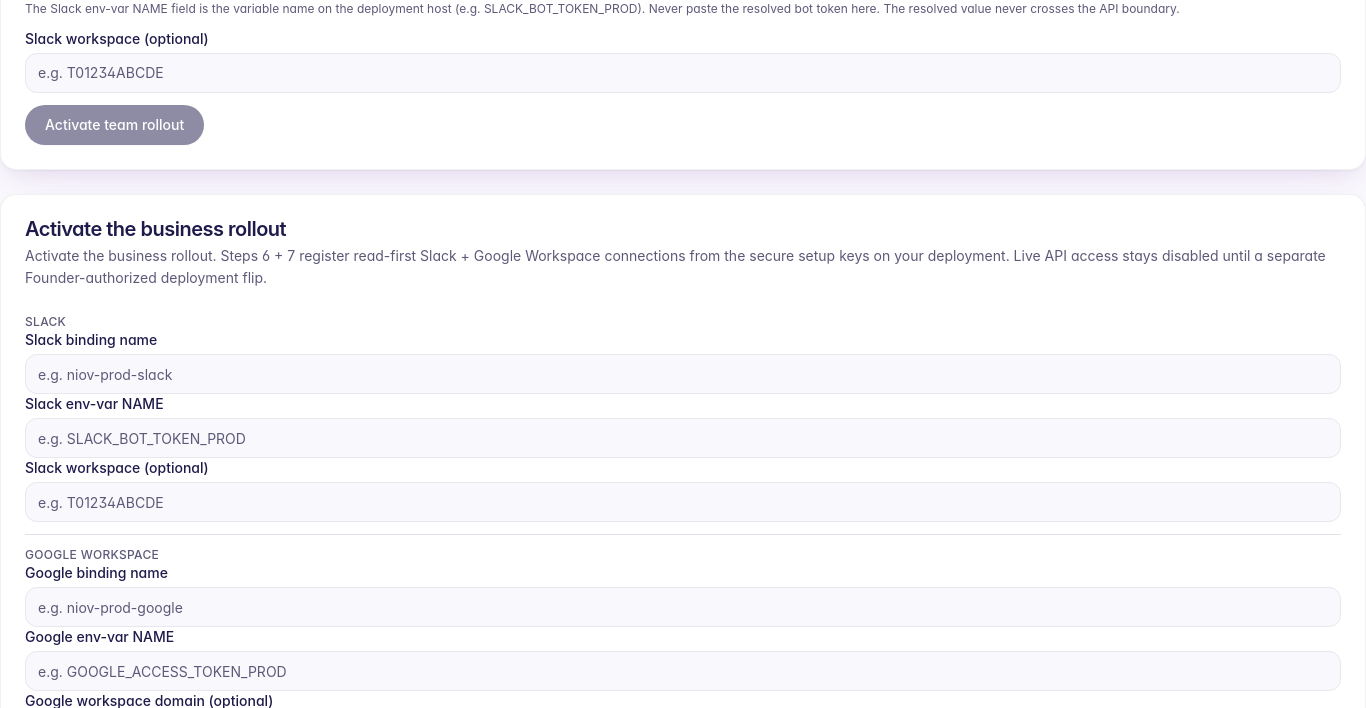
Test: D6 business — successful activation › renders the delegated authority label at step 5
(page scrolled)
Type "niov-prod-slack" into the field with test id "business-slack-display-name-input".
click(683, 374); type("niov-prod-slack")  # box [25,354,1341,394]
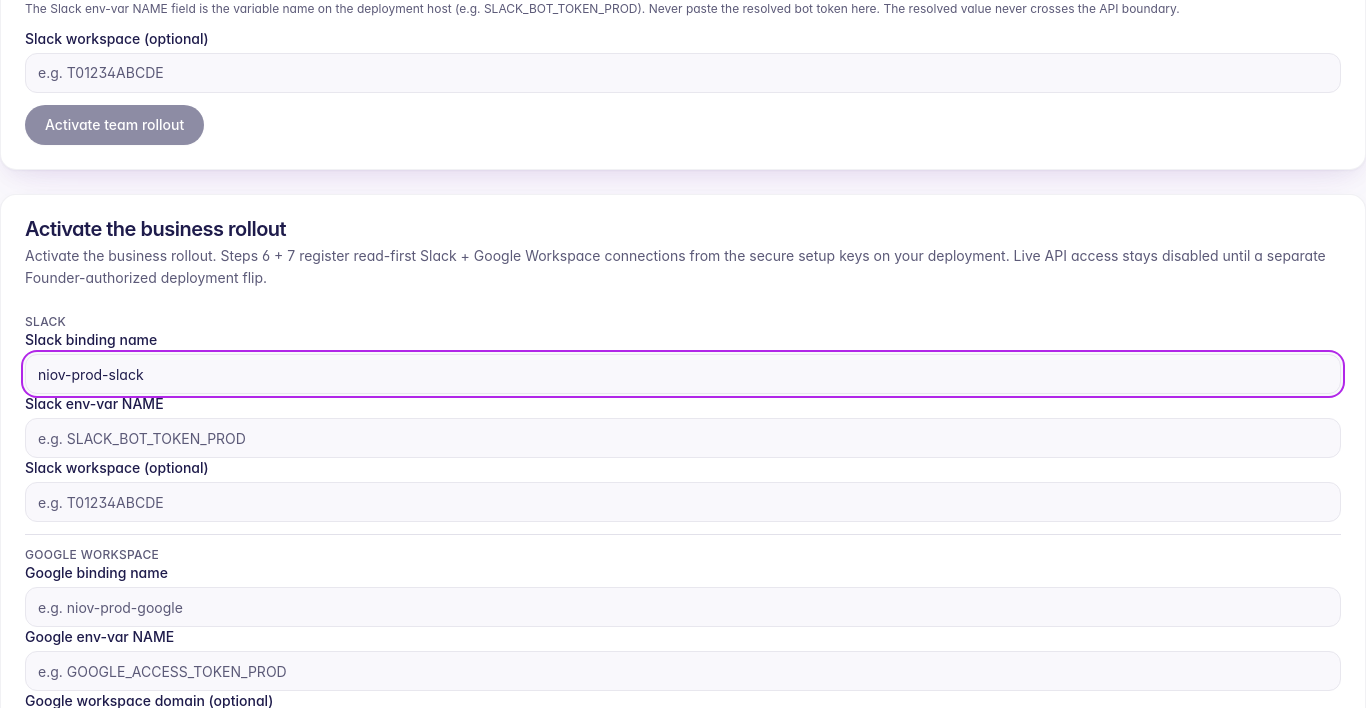
Type "SLACK_BOT_TOKEN_PROD" into the field with test id "business-slack-secret-ref-input".
click(683, 438); type("SLACK_BOT_TOKEN_PROD")  # box [25,418,1341,458]
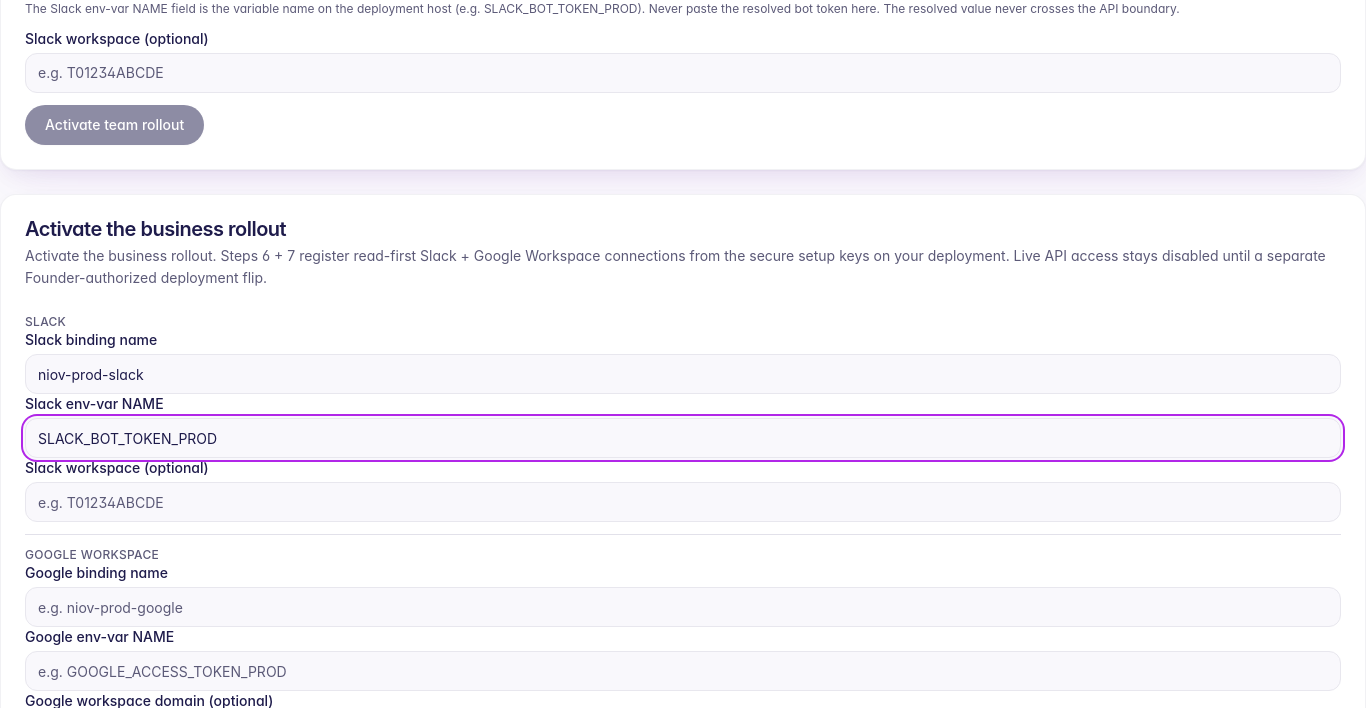
Type "niov-prod-google" into the field with test id "business-google-display-name-input".
click(683, 607); type("niov-prod-google")  # box [25,587,1341,627]
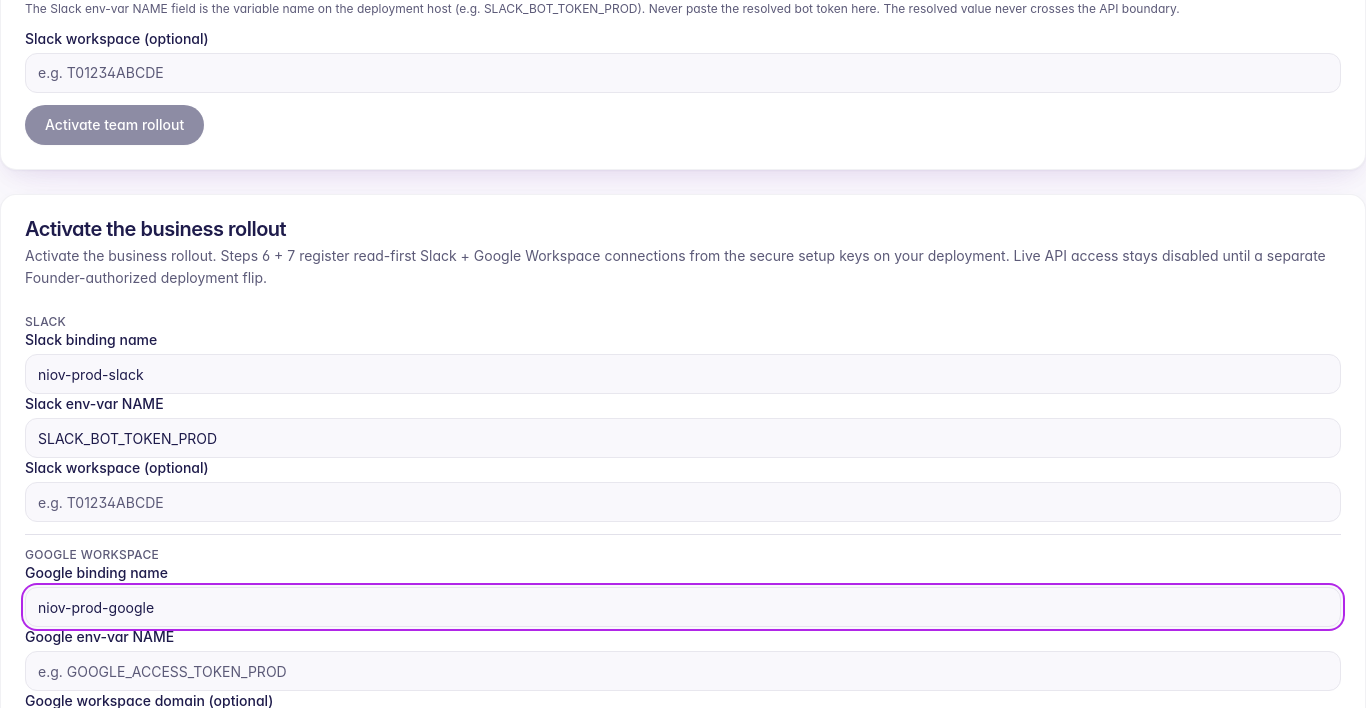
Type "GOOGLE_ACCESS_TOKEN_PROD" into the field with test id "business-google-secret-ref-input".
click(683, 671); type("GOOGLE_ACCESS_TOKEN_PROD")  # box [25,651,1341,691]
(page scrolled)
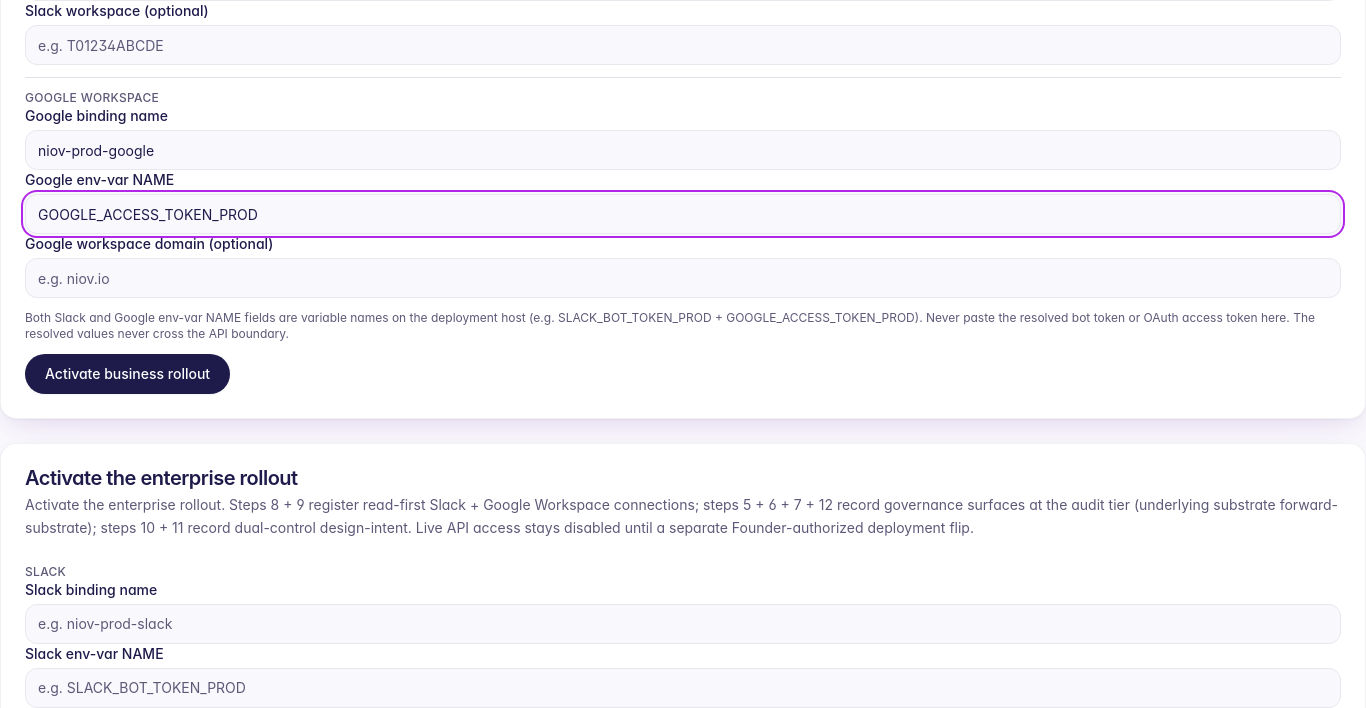
Click the button with test id "activate-business-button".
click(128, 374)  # box [25,354,230,394]
(page scrolled)
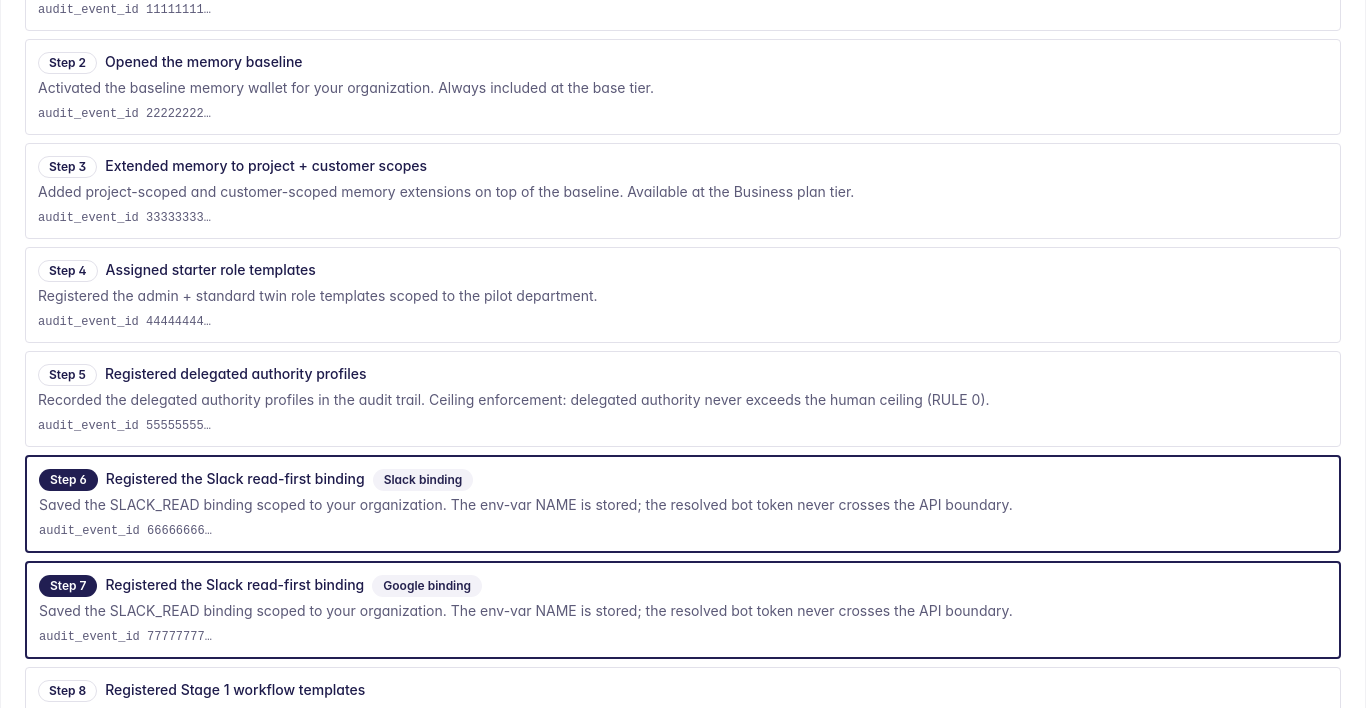
Expected: the text "Registered delegated authority profiles" is shown, [105,364,367,384]
